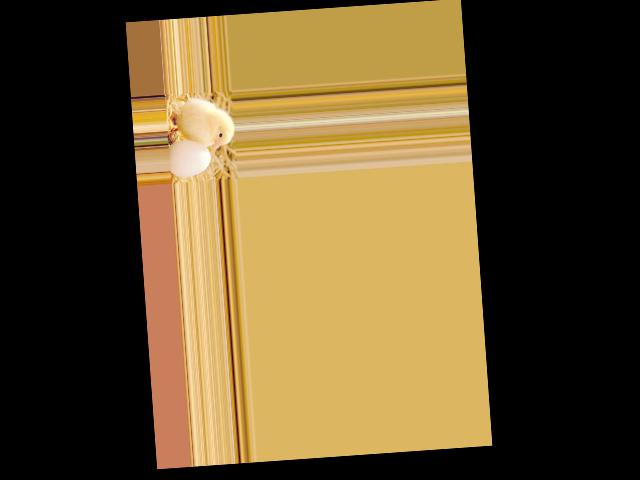egg: (167, 138, 211, 177)
